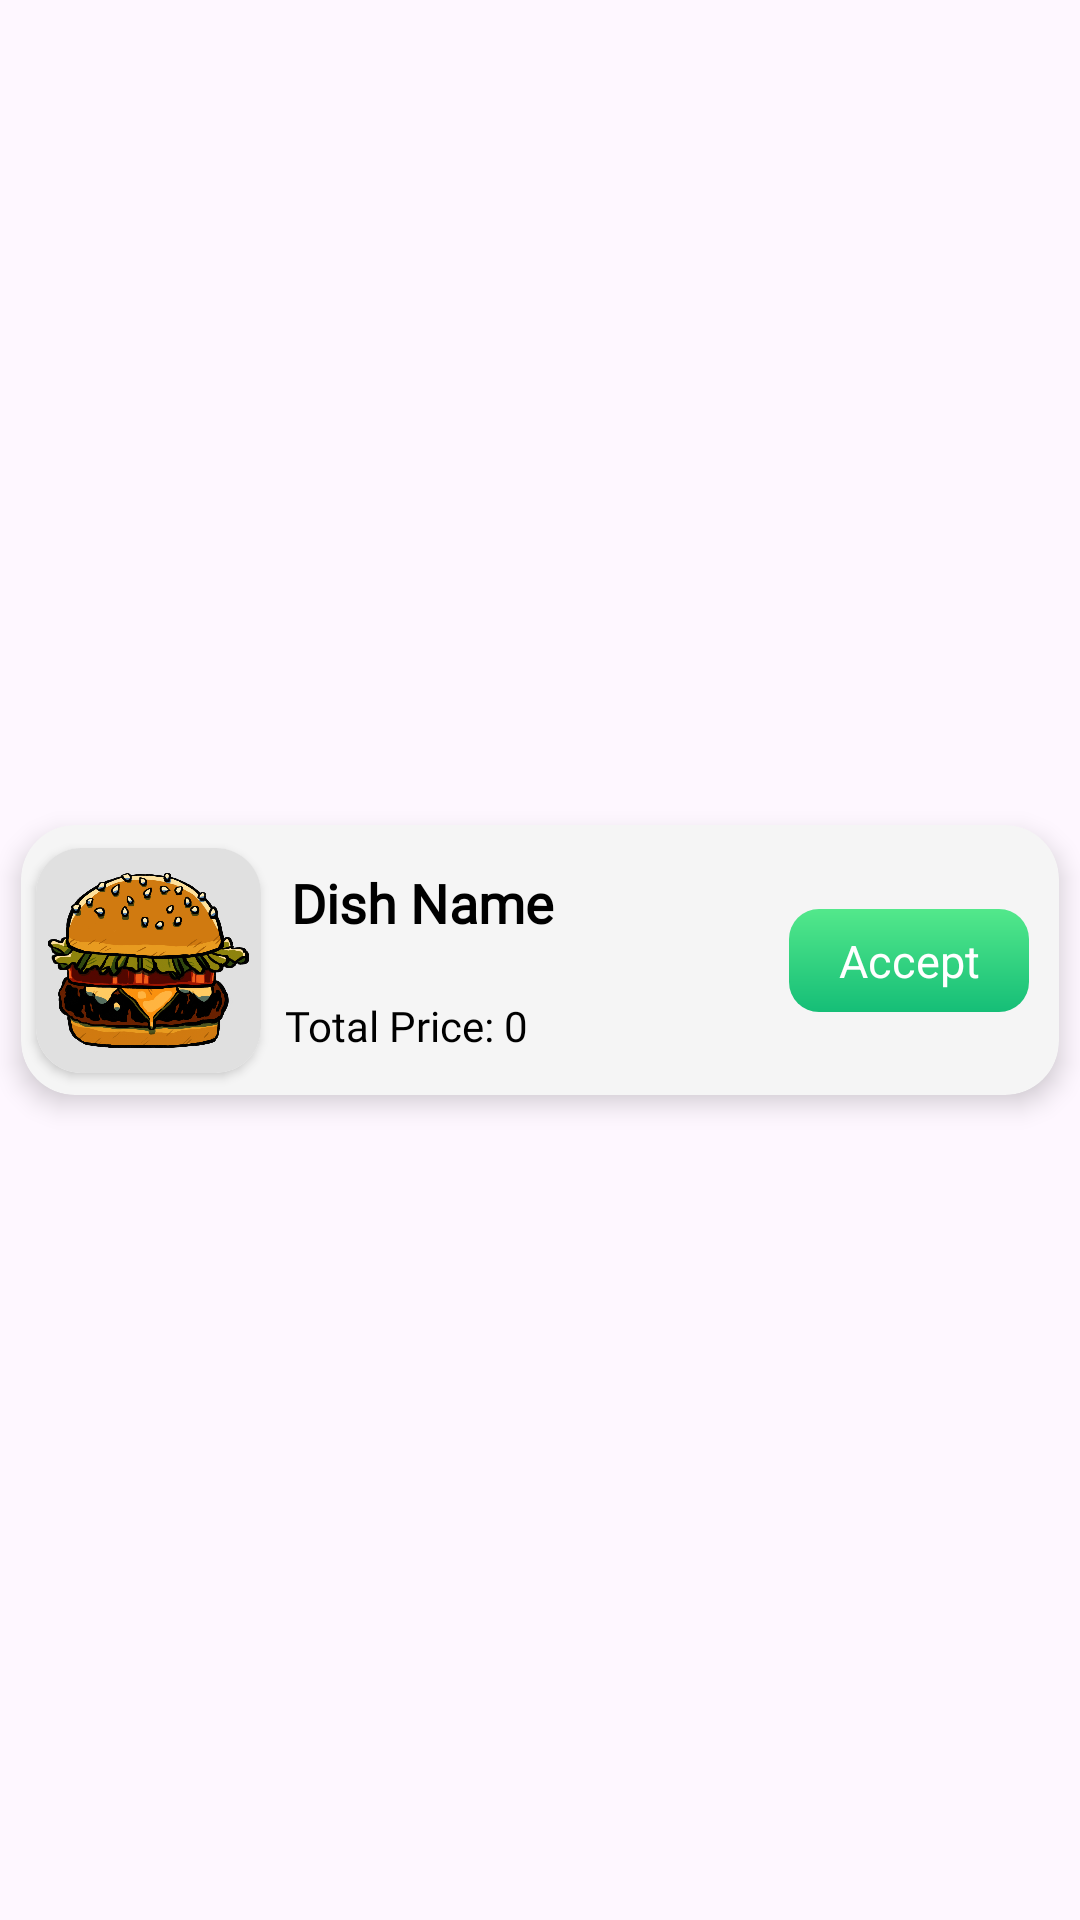

Icon click points for this 1080px×1920px phone screenshot, format (x=x, y=y):
burger: (x=143, y=973)
